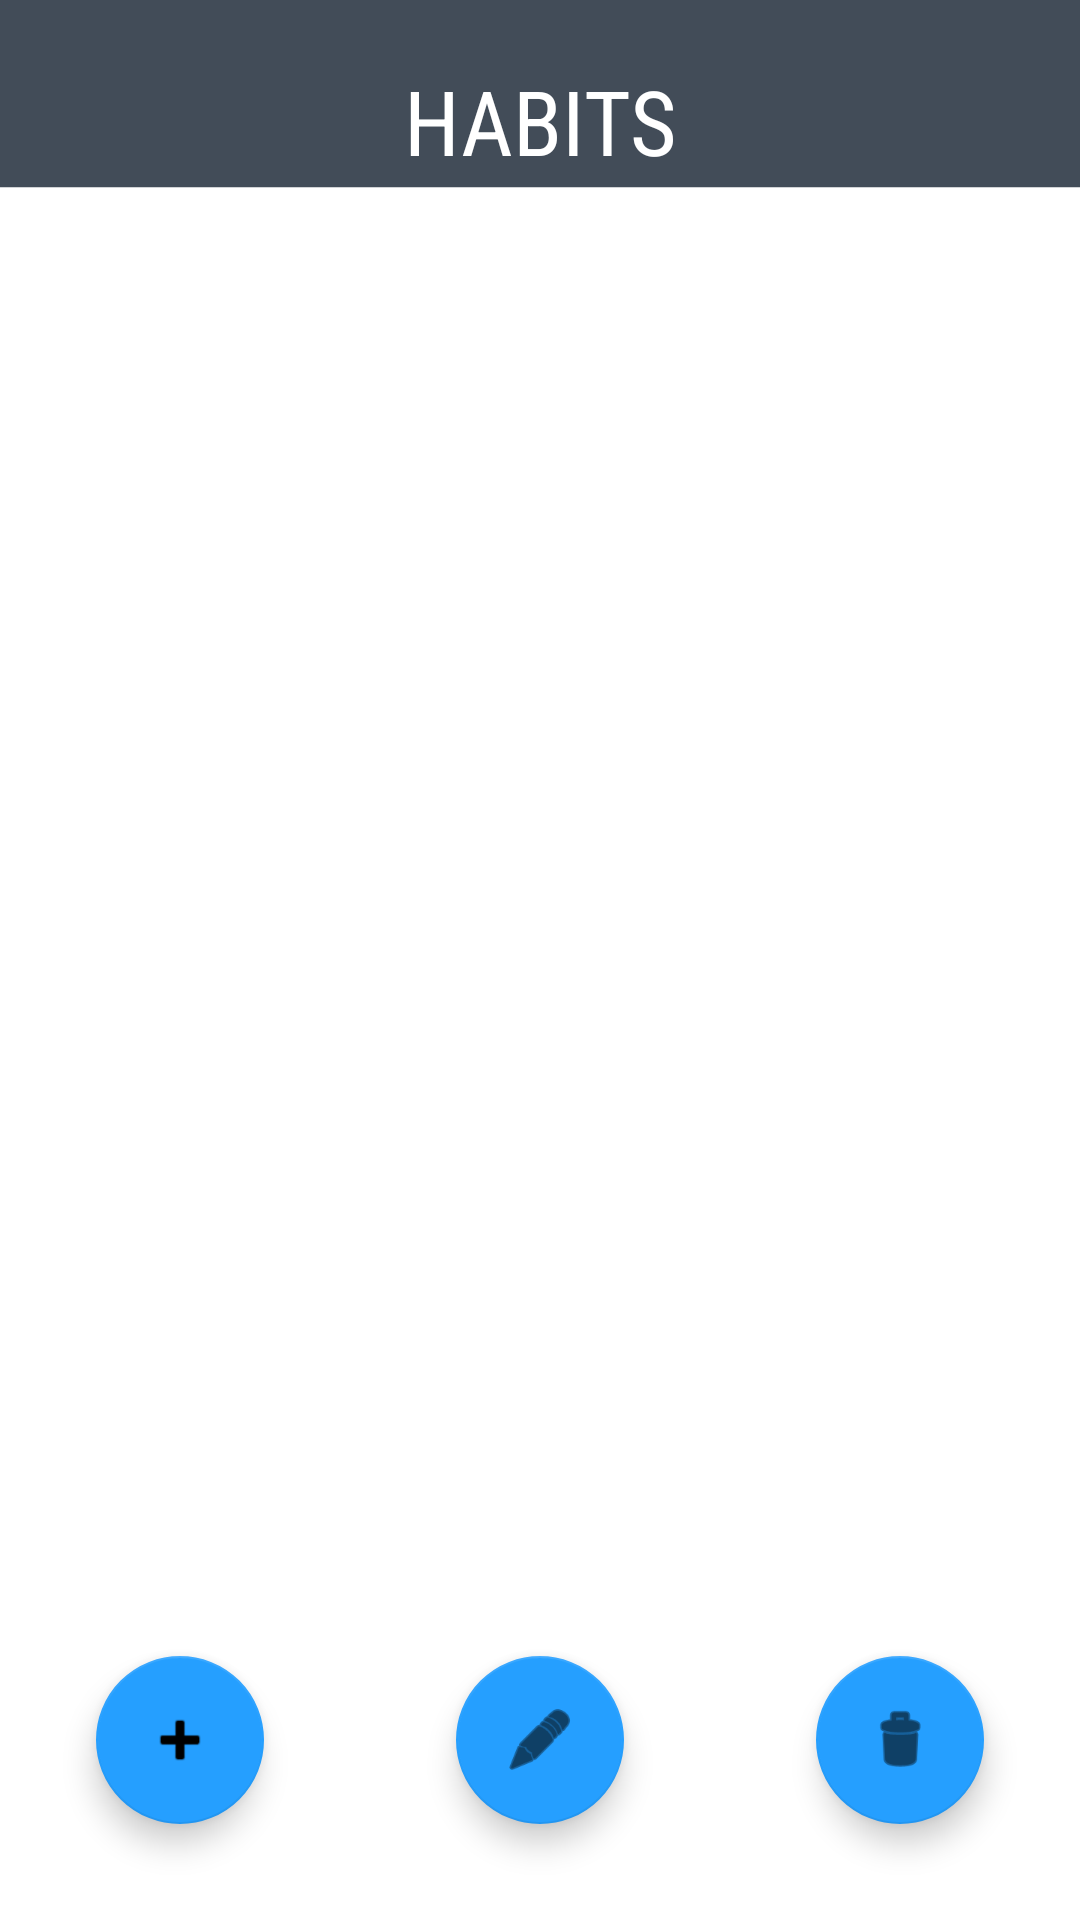

Where icons sit on this 1080 × 1920 app screen, as (x1, y1, x2, y2):
add: (96, 1656, 264, 1824)
delete: (816, 1656, 984, 1824)
edit: (456, 1656, 624, 1824)
